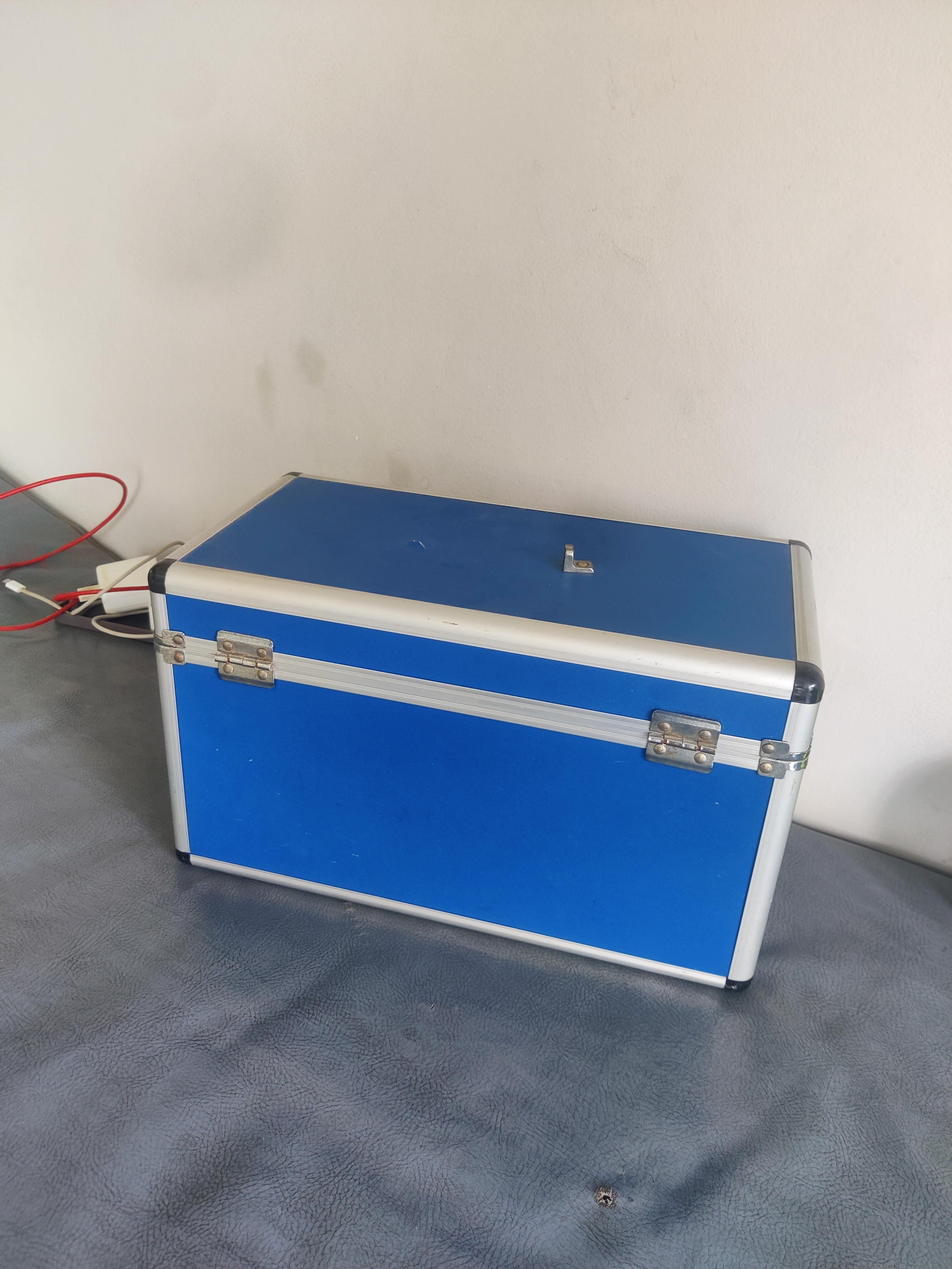FirstAidBox: (127, 418, 840, 1055)
